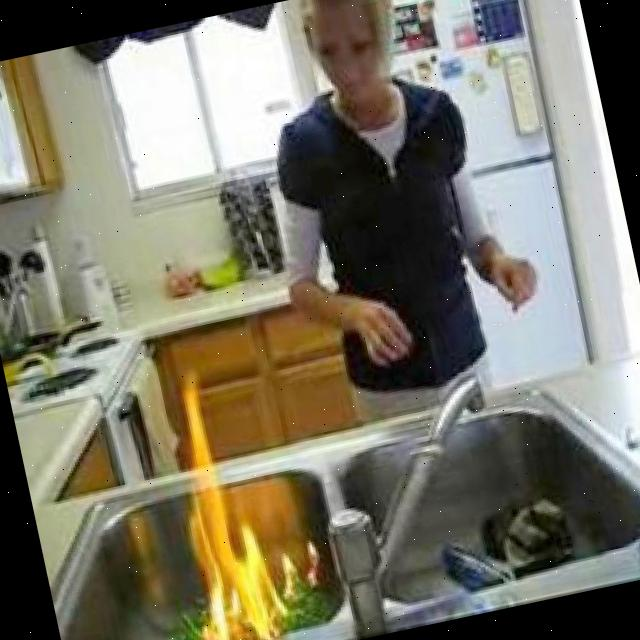fire: (151, 369, 297, 640), (269, 536, 327, 602)
